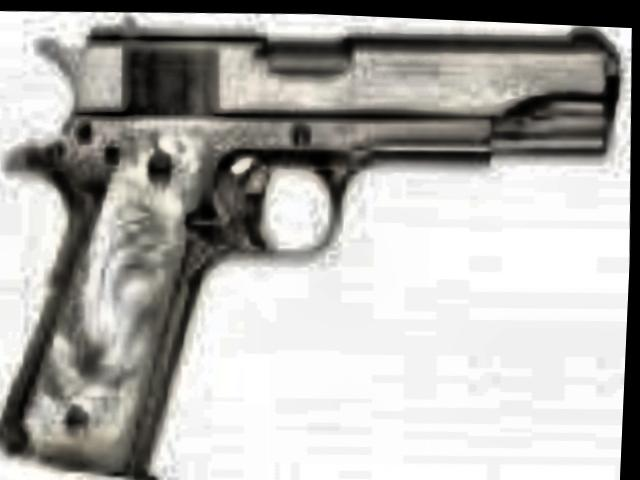pistol: (0, 1, 624, 480)
